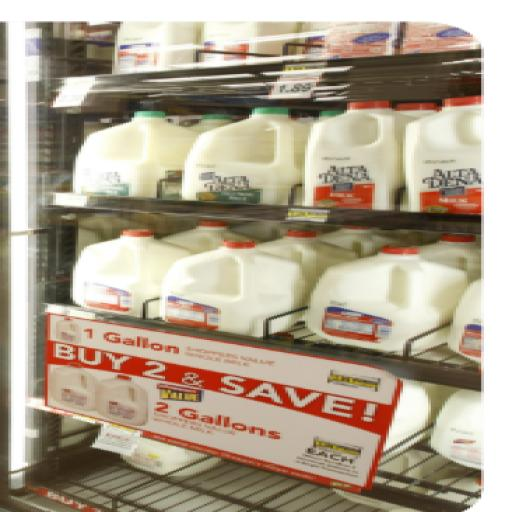green_milk: (308, 247, 467, 351), (163, 243, 304, 336), (182, 108, 307, 205), (305, 101, 414, 210), (73, 112, 195, 197), (73, 229, 190, 317), (406, 97, 484, 214), (258, 231, 355, 296), (431, 391, 481, 469), (384, 380, 430, 451), (448, 280, 484, 362), (163, 221, 249, 254), (423, 235, 481, 275), (191, 114, 232, 132), (395, 102, 436, 117)
